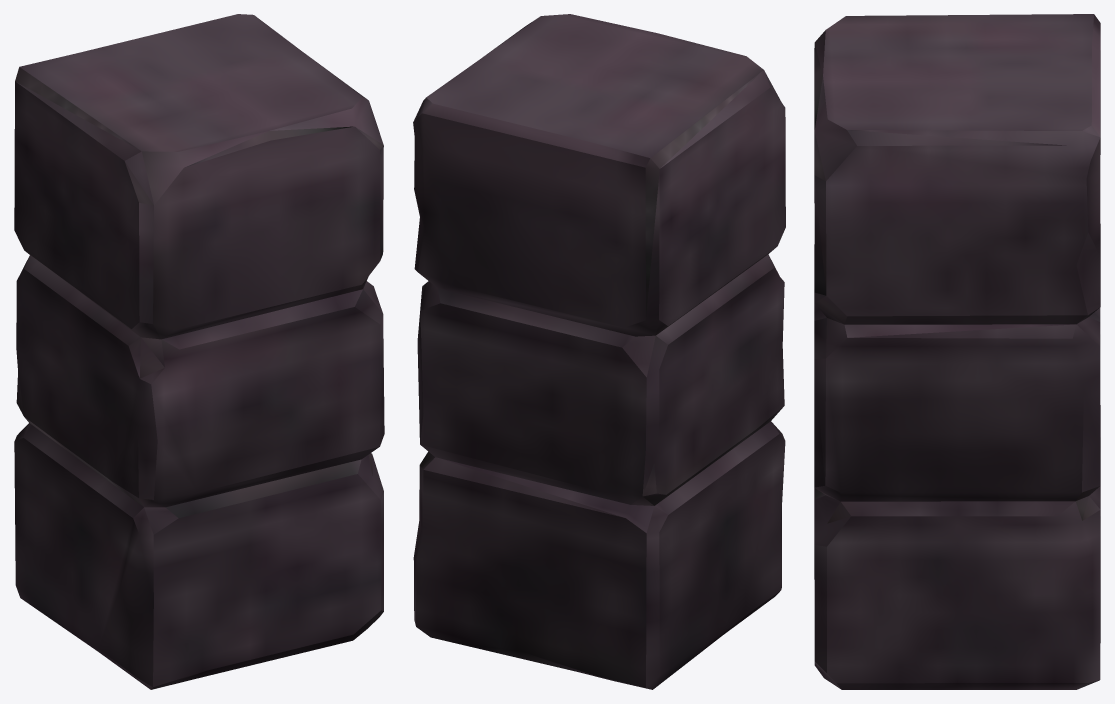
The model's file is env_ruin_pillar-BOUCw4co.glb.
The picture shows the model from 3 angles, left to right: view 1: azimuth 30°, elevation 25°; view 2: azimuth 150°, elevation 25°; view 3: azimuth 270°, elevation 25°; orthographic projection. The views are drawn at different scales.
Parts seen in each view (by area): view 1: env_ruin_pillar_hy_v1; view 2: env_ruin_pillar_hy_v1; view 3: env_ruin_pillar_hy_v1.
Boxes of the visible parts, <box> form: env_ruin_pillar_hy_v1: <box>14,14,384,689</box>; env_ruin_pillar_hy_v1: <box>413,14,785,689</box>; env_ruin_pillar_hy_v1: <box>814,14,1100,689</box>.
Size of the model in its own units: 1.08 by 2.24 by 1.04.
Materials: 1 (1 with a texture image).
